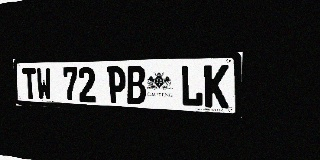2: (78, 67, 96, 102)
7: (62, 67, 79, 102)
B: (126, 66, 146, 105)
K: (204, 64, 229, 108)
L: (180, 65, 203, 107)
P: (107, 66, 126, 104)
T: (22, 68, 38, 100)
W: (36, 68, 52, 100)
